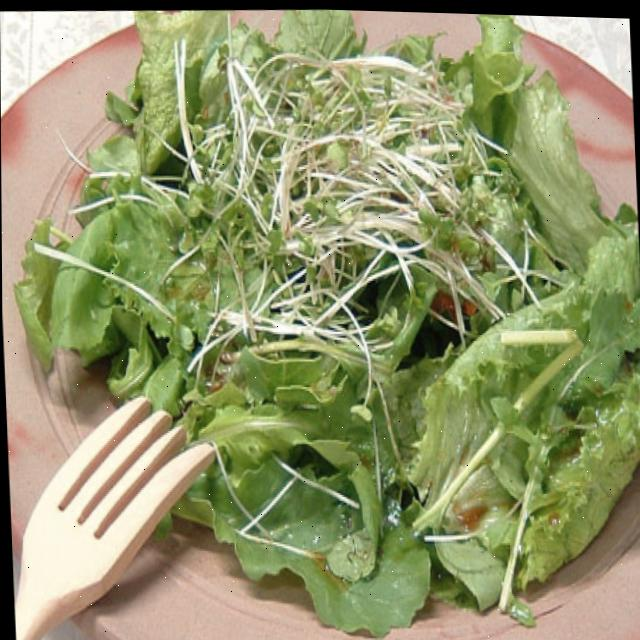蔬菜料理: (0, 0, 640, 623)
